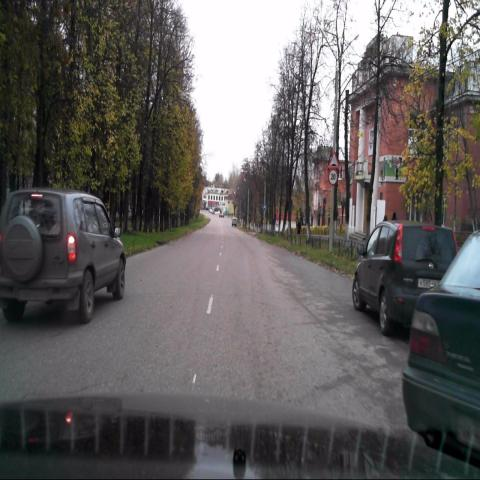1_17: (328, 150, 340, 169)
3_24: (328, 169, 338, 185)
